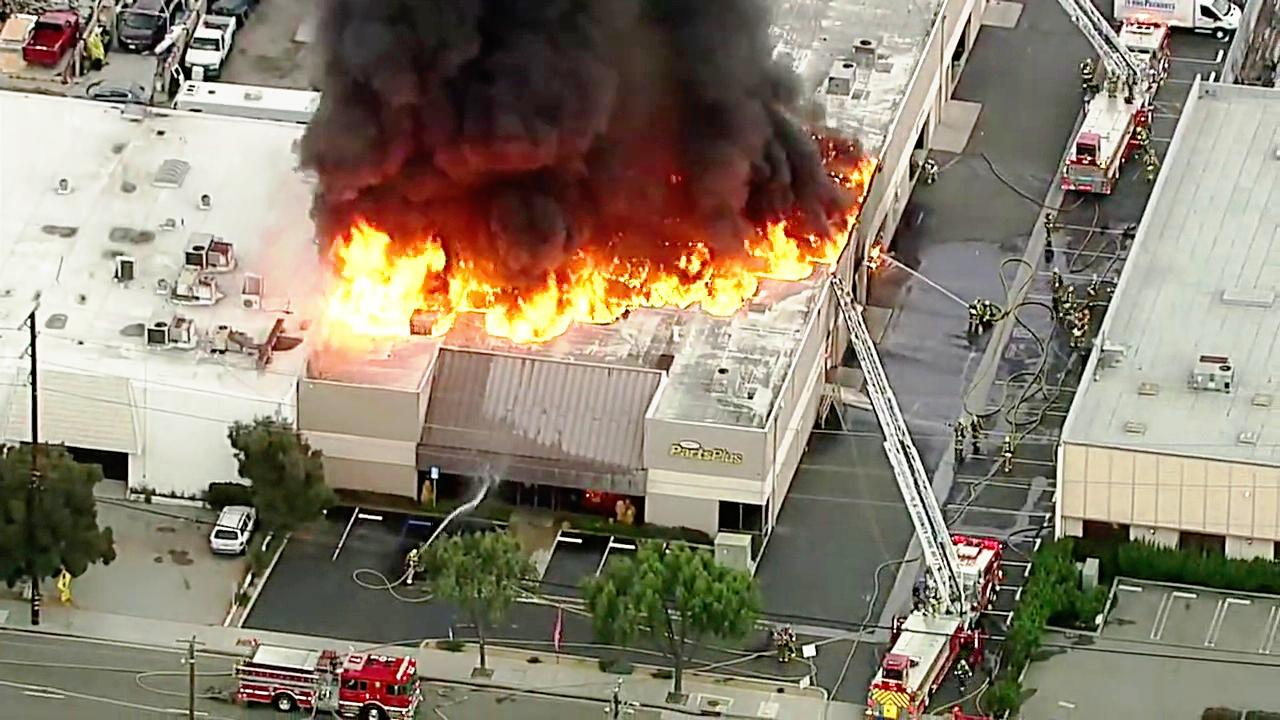fire: (324, 215, 431, 346), (737, 235, 852, 302), (641, 254, 760, 318), (475, 280, 570, 352), (558, 260, 640, 328)
smoke: (350, 0, 803, 190)
